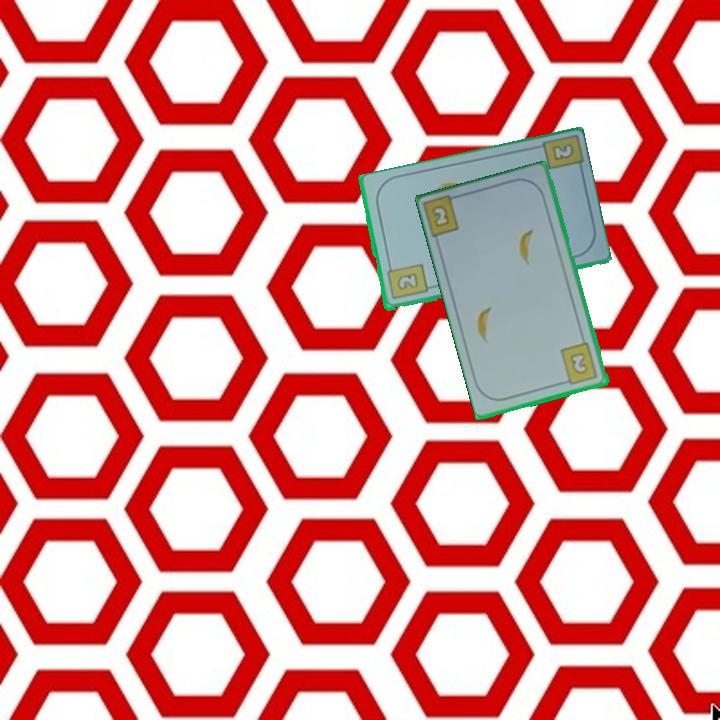2b: (557, 339, 601, 388), (383, 260, 430, 303), (548, 140, 577, 164), (431, 204, 453, 230)
